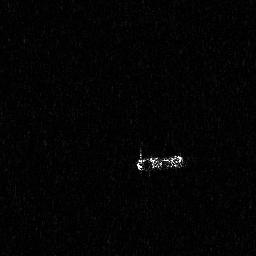ship: (134, 146, 186, 176)
